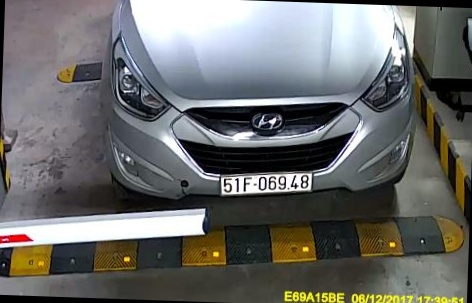plate: (211, 161, 319, 201)
